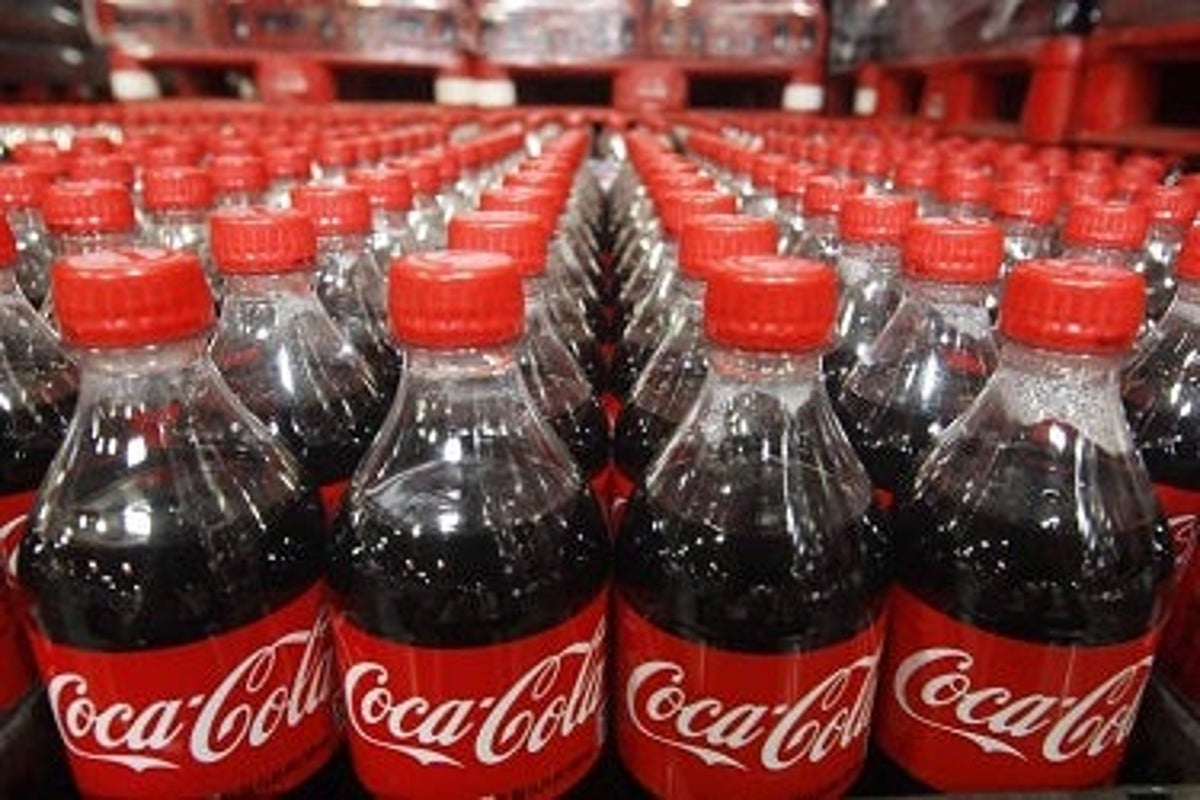Coca-Cola: (878, 266, 1184, 775), (326, 270, 599, 800), (607, 270, 865, 800), (51, 268, 299, 790)
